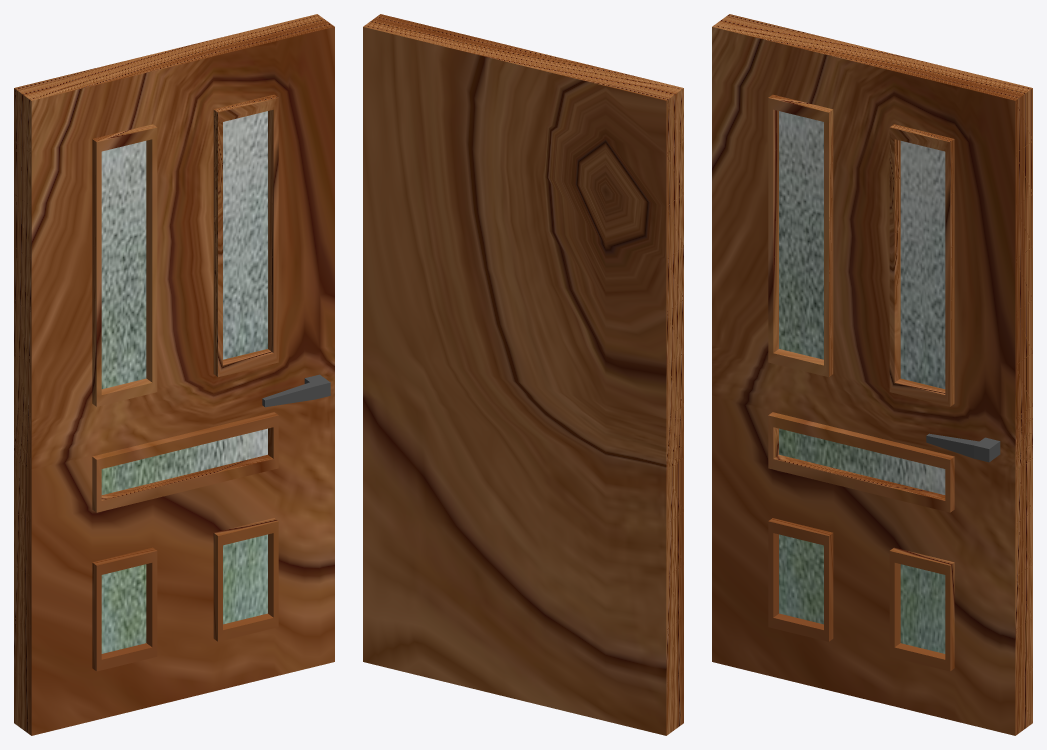
The model's file is Puerta_44.fbx.
The picture shows the model from 3 angles, left to right: view 1: azimuth 30°, elevation 25°; view 2: azimuth 150°, elevation 25°; view 3: azimuth 330°, elevation 25°; orthographic projection.
Parts seen in each view (by area): view 1: Cube.044; view 2: Cube.044; view 3: Cube.044.
Part boxes in pixels (bbox=[...]): Cube.044: bbox=[14, 14, 334, 735]; Cube.044: bbox=[363, 14, 683, 735]; Cube.044: bbox=[712, 14, 1032, 735].
Size of the model in its own units: 200 by 400 by 32.54.
